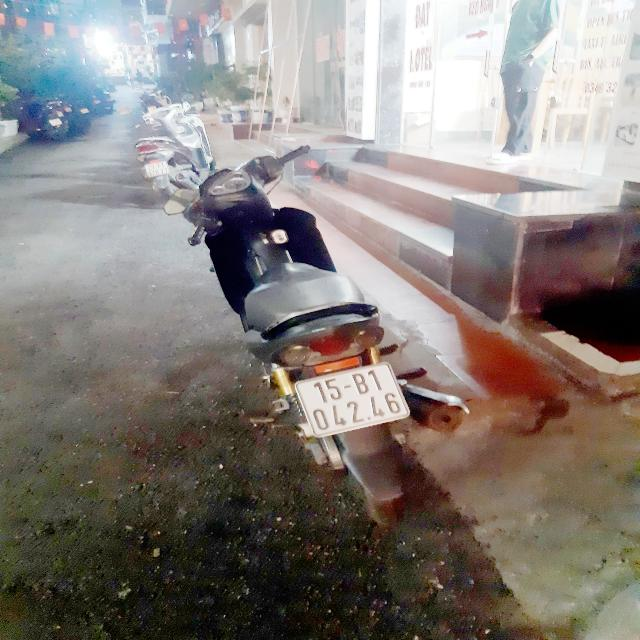license_plate: (284, 356, 420, 445), (142, 160, 173, 180)
